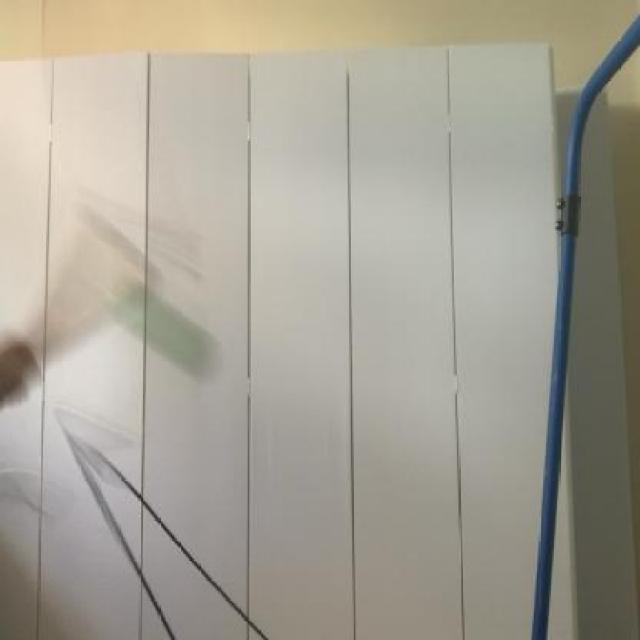baseball: (98, 275, 228, 388)
